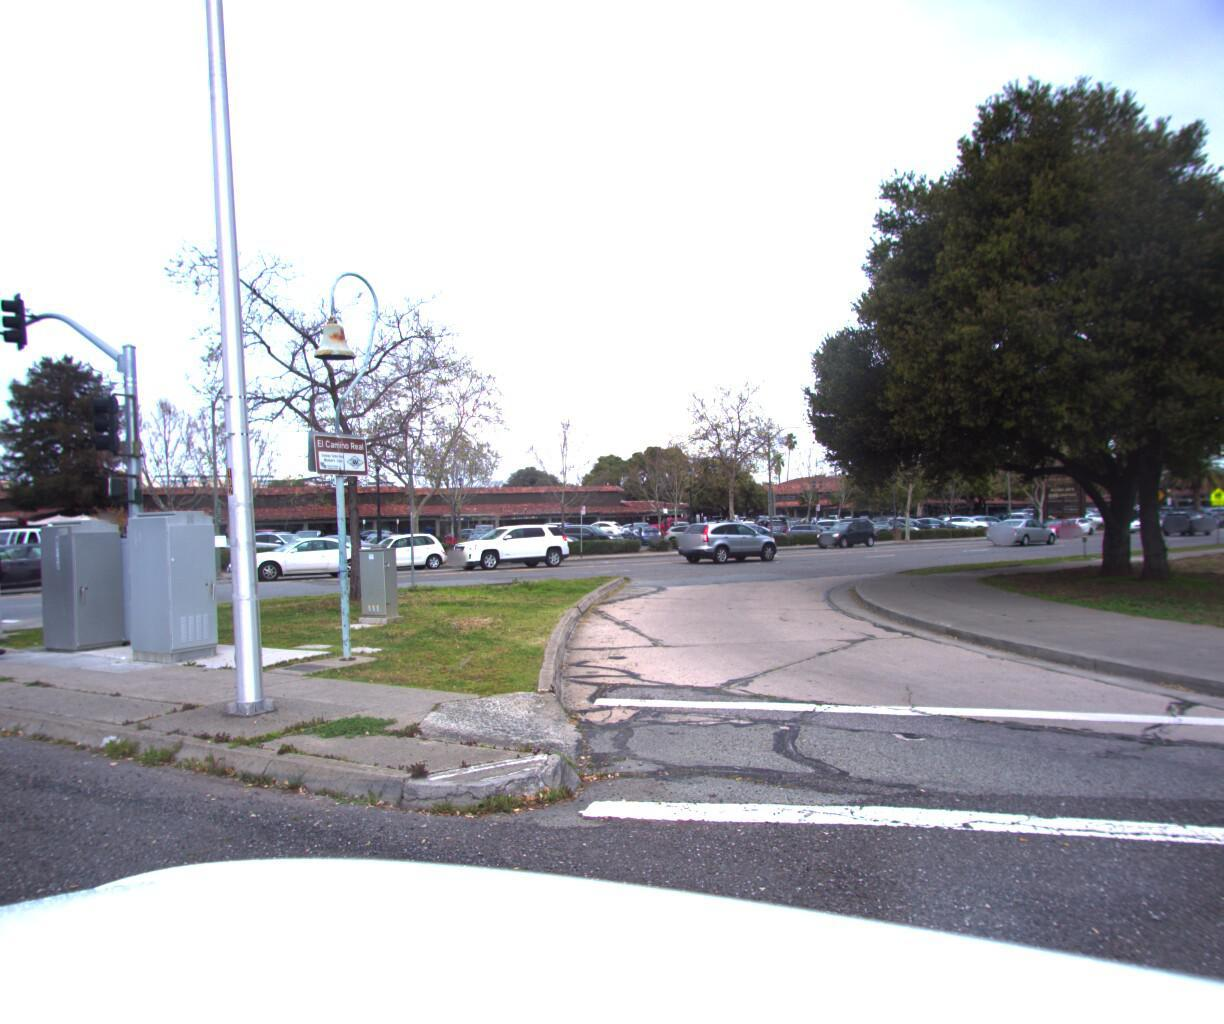car: (219, 532, 386, 585), (442, 519, 574, 573), (670, 516, 784, 565), (322, 530, 436, 575), (238, 527, 330, 564), (981, 517, 1058, 547), (811, 517, 879, 548), (660, 520, 732, 546), (829, 514, 894, 539), (1155, 505, 1215, 532), (1028, 514, 1084, 536), (933, 513, 993, 531), (956, 511, 1015, 530), (1057, 511, 1106, 531)
